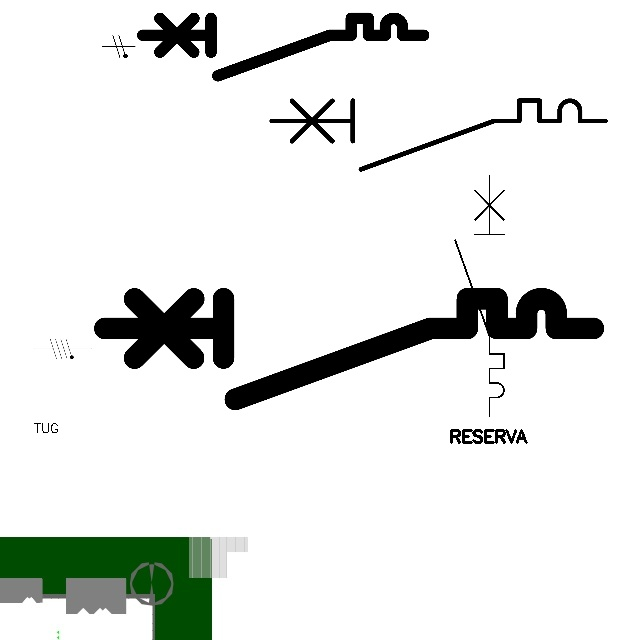interruptor_termomagnetico: (92, 286, 606, 412), (263, 92, 614, 178), (135, 11, 430, 83), (449, 170, 510, 422)
